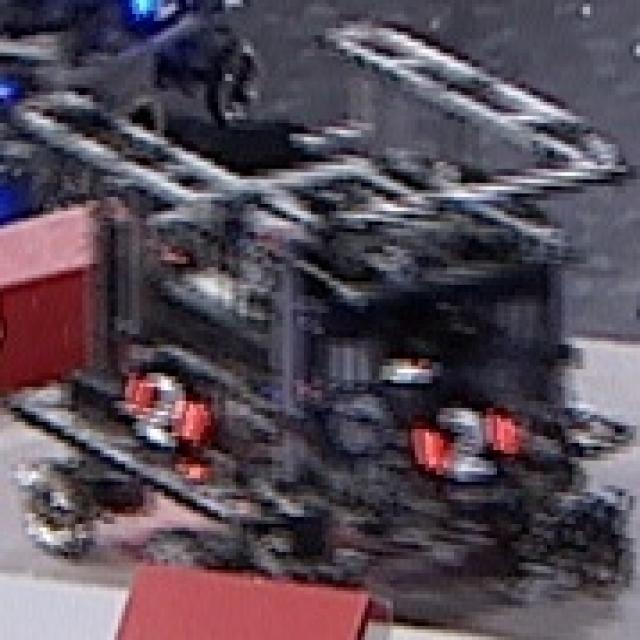R2: (400, 387, 522, 489), (109, 360, 206, 459)
